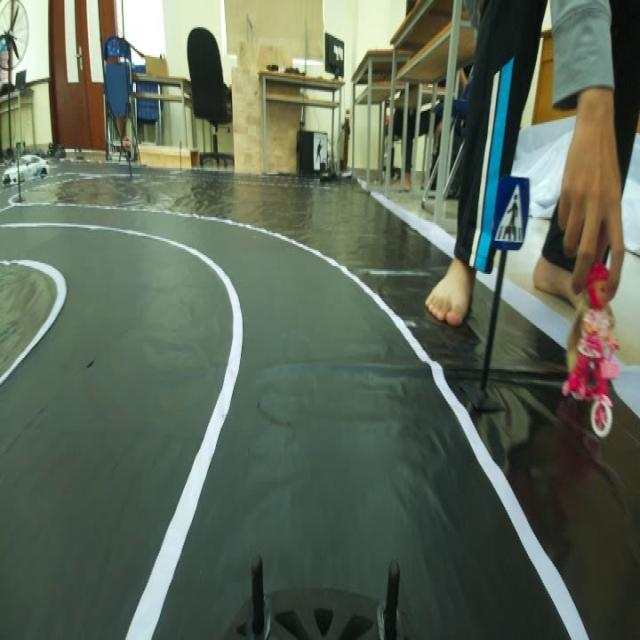crosswalk: (496, 176, 528, 250)
pedestrian: (556, 256, 622, 436)
